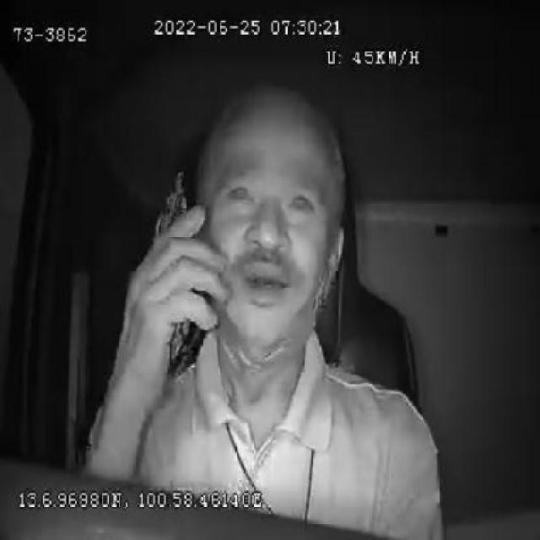phone: (152, 166, 210, 376)
